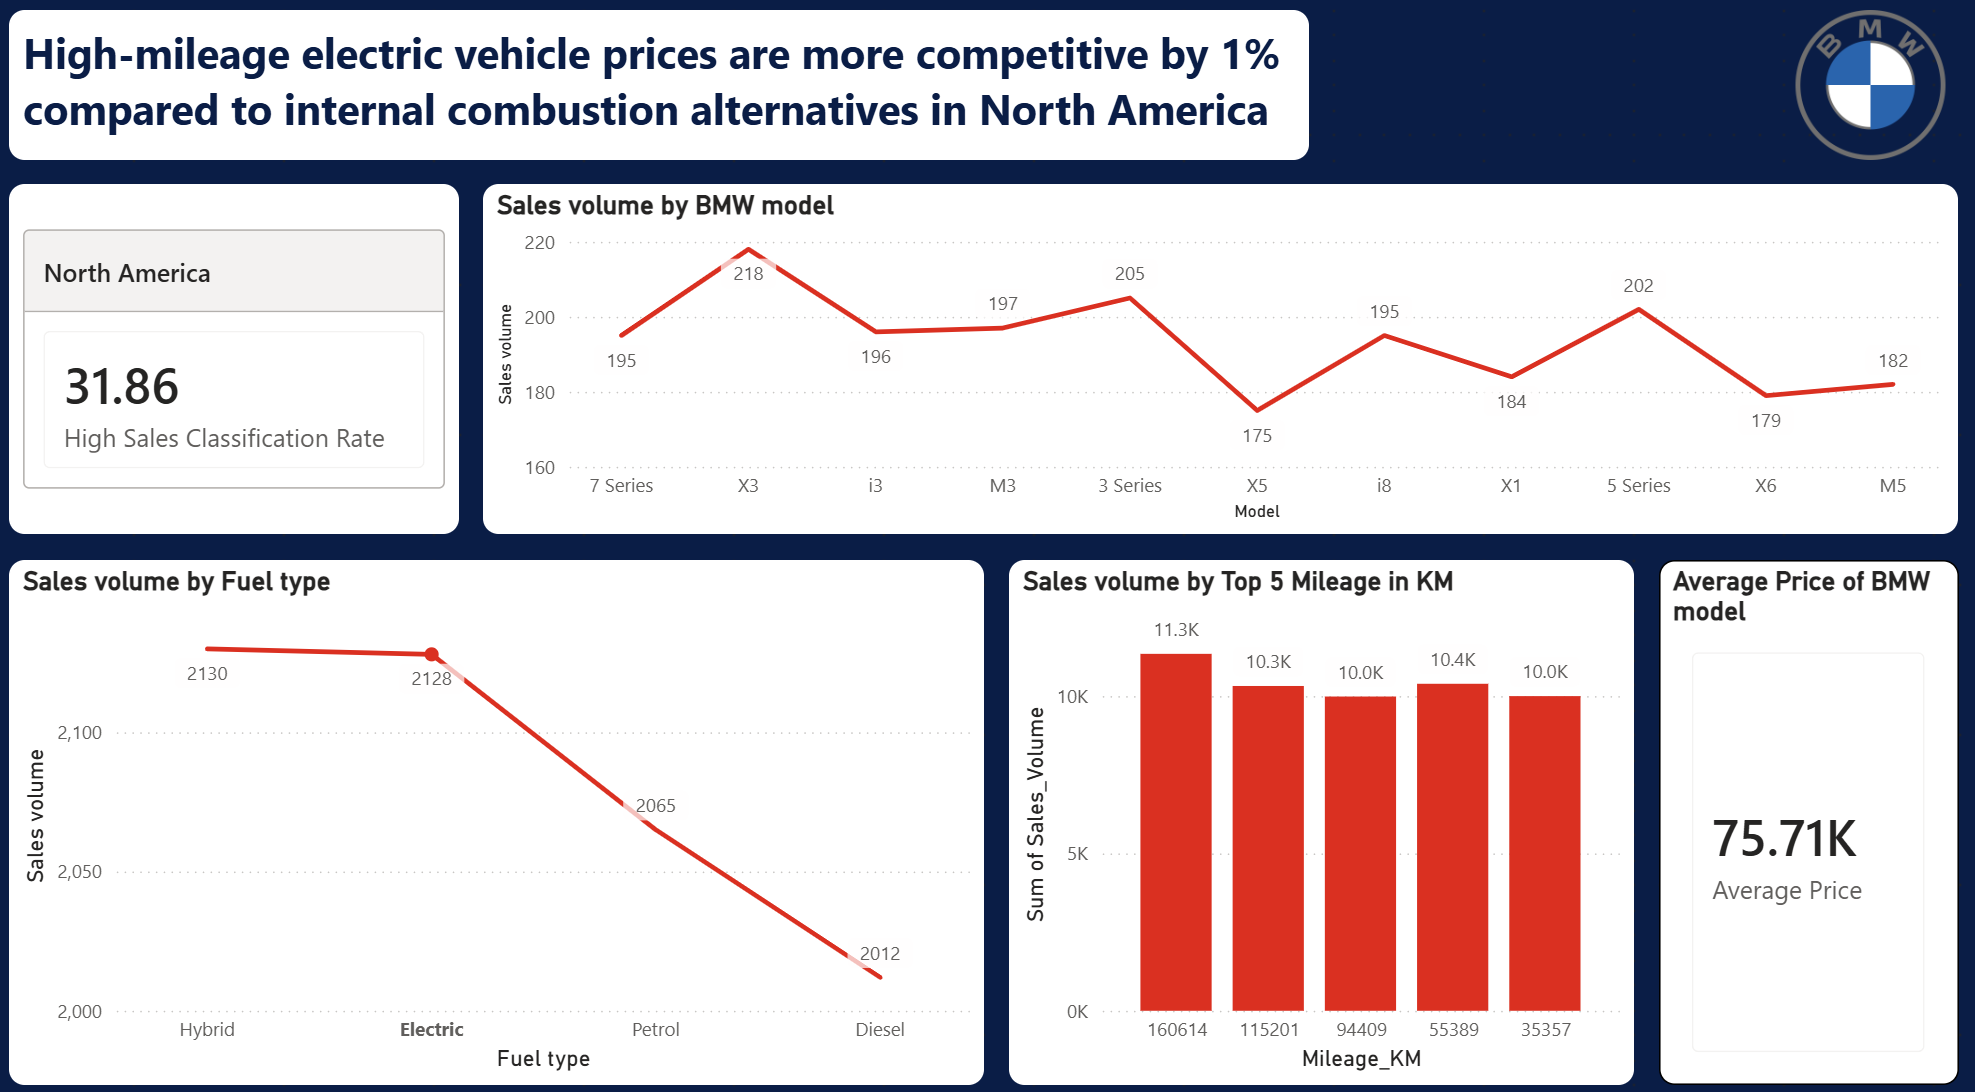

What the dashboard file says about the page in this screenshot:
{"tool":"powerbi","page":{"name":"Page 1","canvas":[1280,720],"ordinal":0},"visuals":[{"type":"textbox","box":[16,16,832,96],"z":0},{"type":"cardVisual","fields":{"Rows":["BMW sales data (2010-2024).Region"],"Data":["BMW sales data (2010-2024).High Sales Classification Rate"]},"box":[16,128,288,224],"z":2000},{"type":"lineStackedColumnComboChart","title":"Sales volume by BMW model","fields":{"Category":["BMW sales data (2010-2024).Model"],"Y2":["CountNonNull(BMW sales data (2010-2024).Sales_Volume)"]},"box":[320,128,944,224],"z":3000},{"type":"lineStackedColumnComboChart","title":"Sales volume by Fuel type","fields":{"Category":["BMW sales data (2010-2024).Fuel_Type"],"Y2":["CountNonNull(BMW sales data (2010-2024).Sales_Volume)"]},"box":[16,368,624,336],"z":4000},{"type":"lineStackedColumnComboChart","title":"Sales volume by Top 5 Mileage in KM","fields":{"Category":["BMW sales data (2010-2024).Mileage_KM"],"Y":["Sum(BMW sales data (2010-2024).Sales_Volume)"]},"box":[656,368,400,336],"z":5000},{"type":"image","box":[1152,16,112,96],"z":6000},{"type":"cardVisual","title":"Average Price of BMW model","fields":{"Data":["BMW sales data (2010-2024).Average Price"]},"box":[1072,368,192,336],"z":7000}]}

Visuals, with their boxes in screenshot pixels (x1, y1, x2, y2), scaled from the page's 1280x720 canvas onto the 1975x1092 screenshot:
textbox: l=25, t=24, r=1308, b=170
cardVisual - BMW sales data (2010-2024).Region x BMW sales data (2010-2024).High Sales Classification Rate: l=25, t=194, r=469, b=534
"Sales volume by BMW model" lineStackedColumnComboChart: l=494, t=194, r=1950, b=534
"Sales volume by Fuel type" lineStackedColumnComboChart: l=25, t=558, r=988, b=1068
"Sales volume by Top 5 Mileage in KM" lineStackedColumnComboChart: l=1012, t=558, r=1629, b=1068
image: l=1778, t=24, r=1950, b=170
"Average Price of BMW model" cardVisual: l=1654, t=558, r=1950, b=1068
